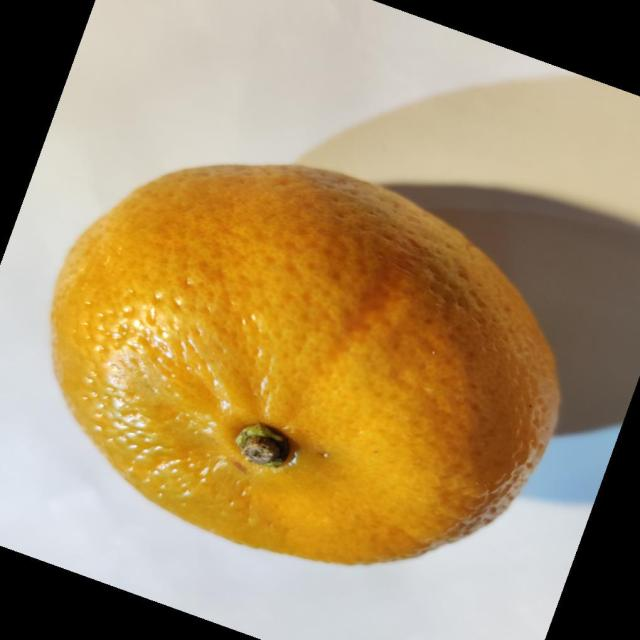fresh orange: (49, 161, 562, 566)
